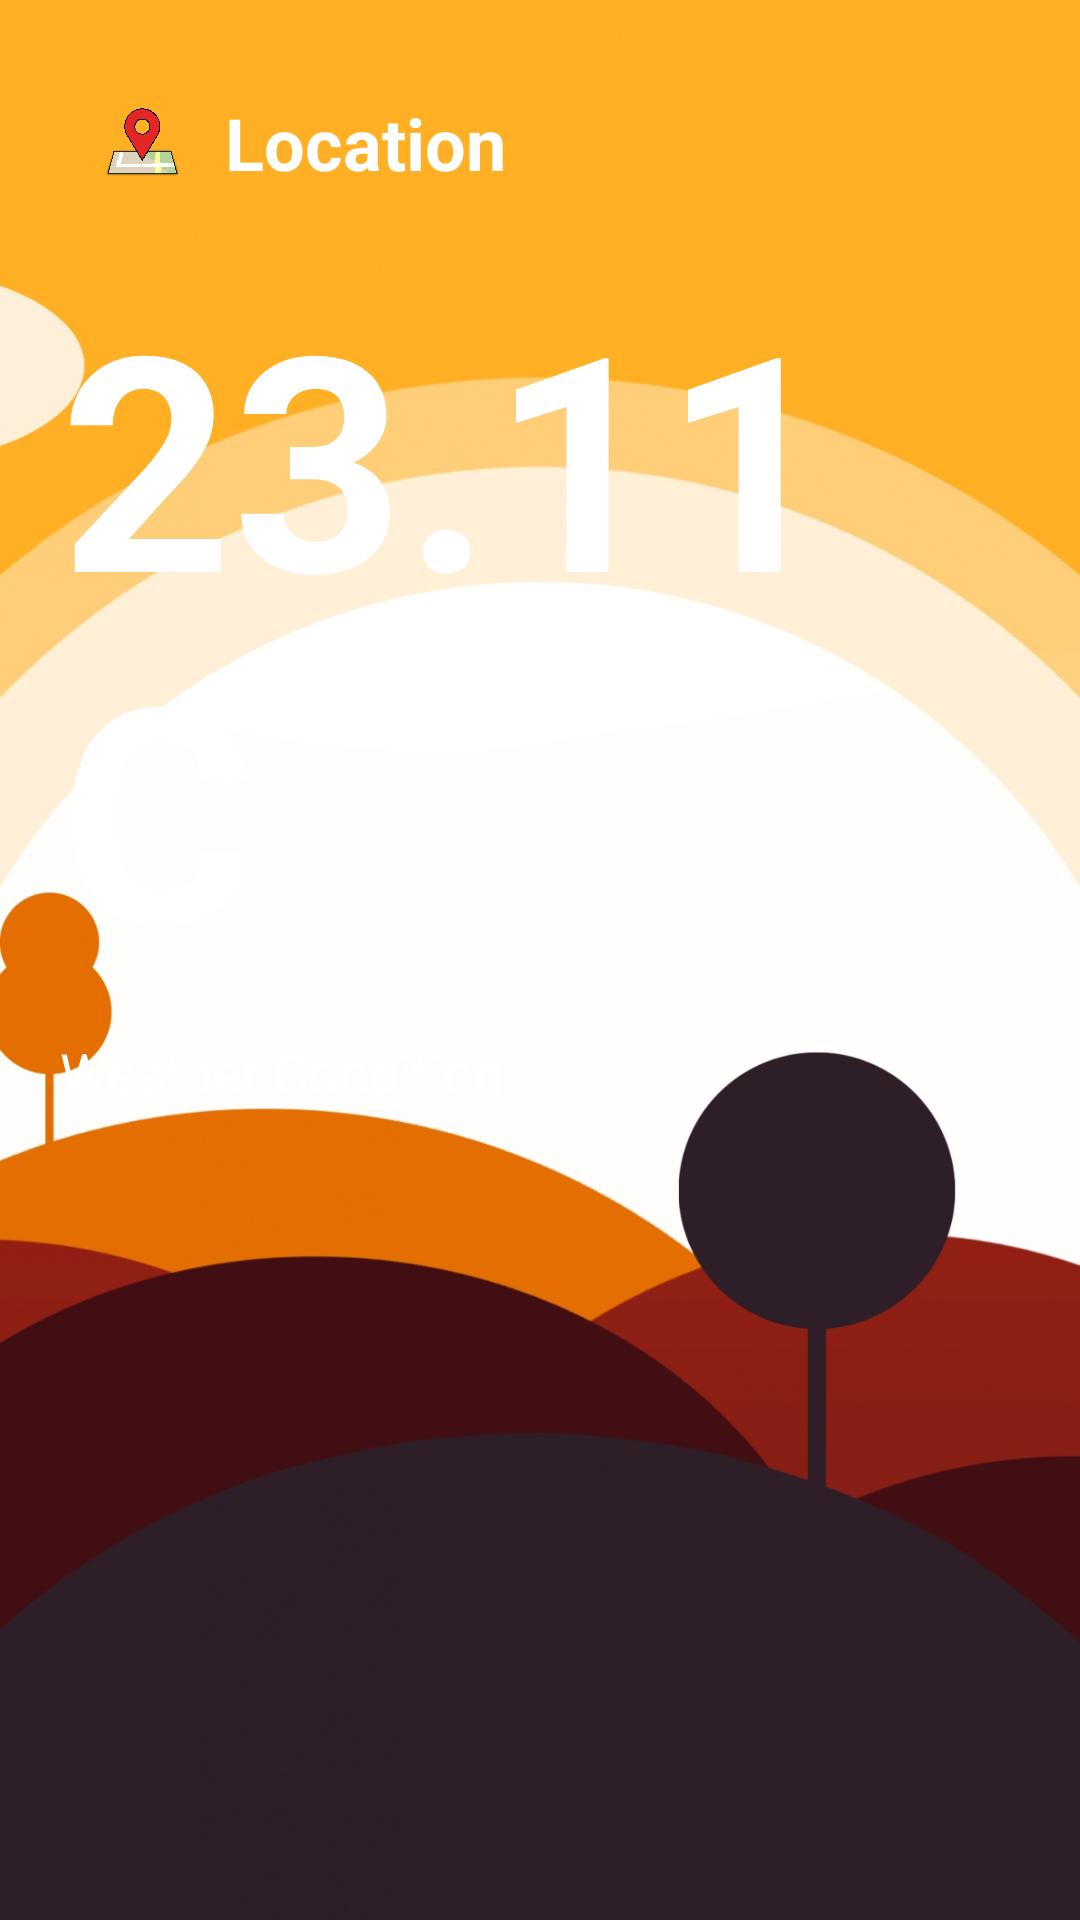

Icons on this 1080px x 1920px Android screen, each with the point to tap as (x,y):
gpsicon: (142,141)
